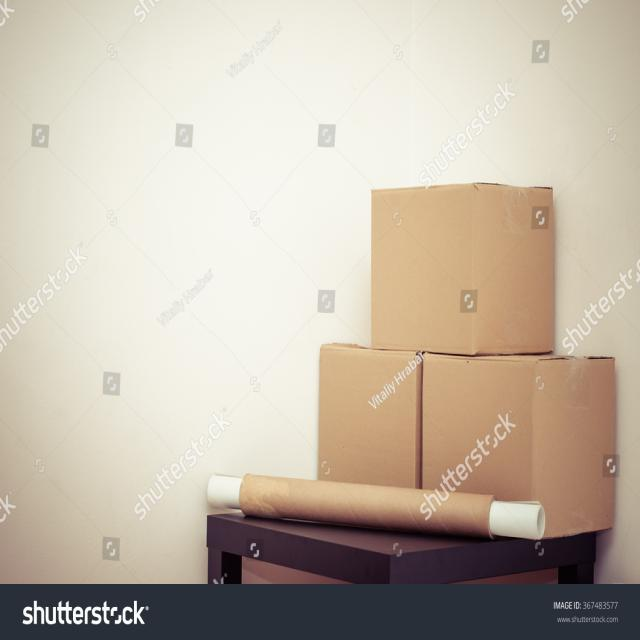BoxFace: (370, 181, 554, 349), (421, 351, 536, 508), (316, 342, 416, 485)
